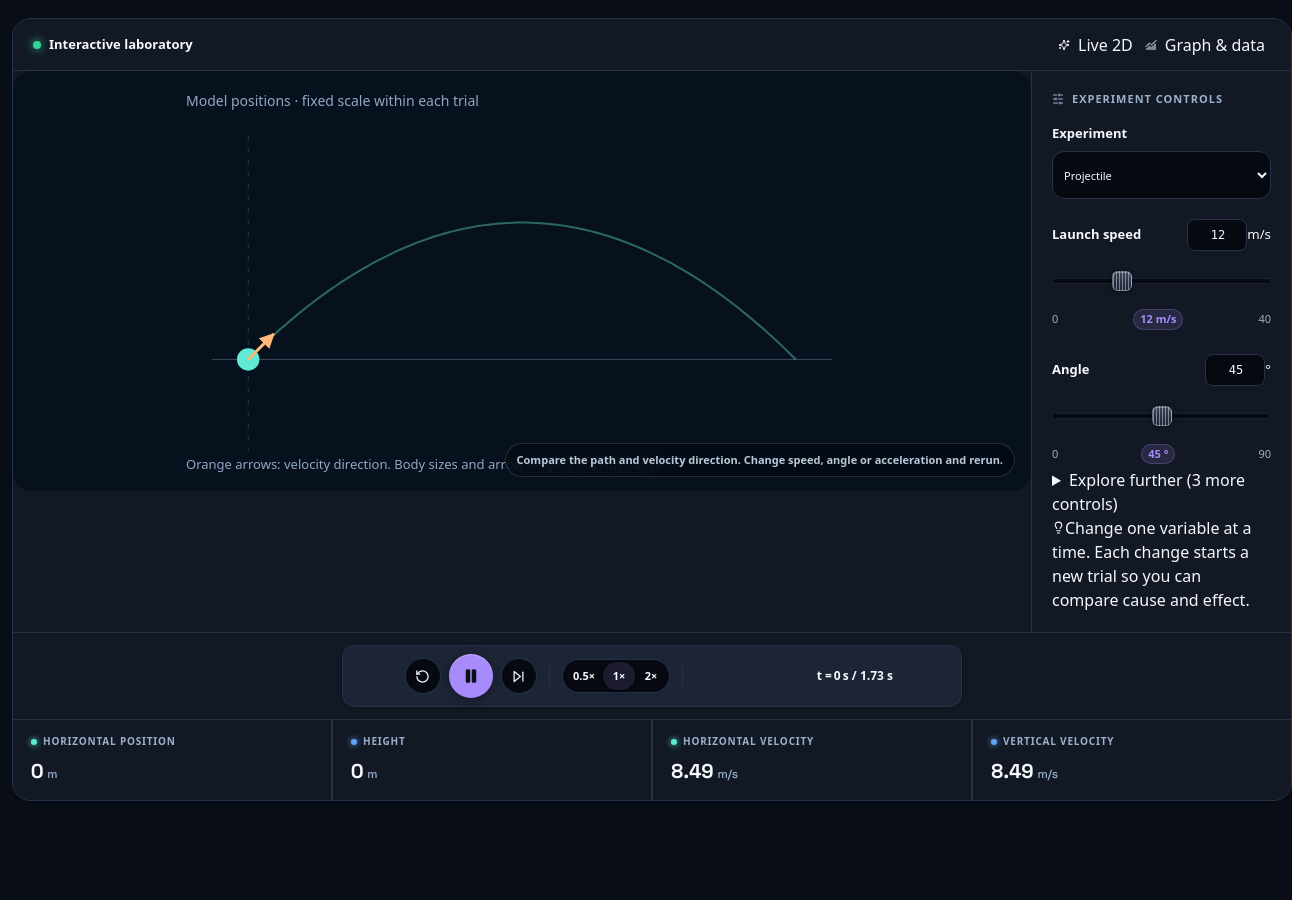
Test: Precision Lab & Floating Playback HUD › renders graph view and reduced visual mode with scrollable wrapper containers
The width and height of the screenshot is (1292, 900).
Click the button "Graph & data" at x=1205, y=44, box [1139,32,1271,58]
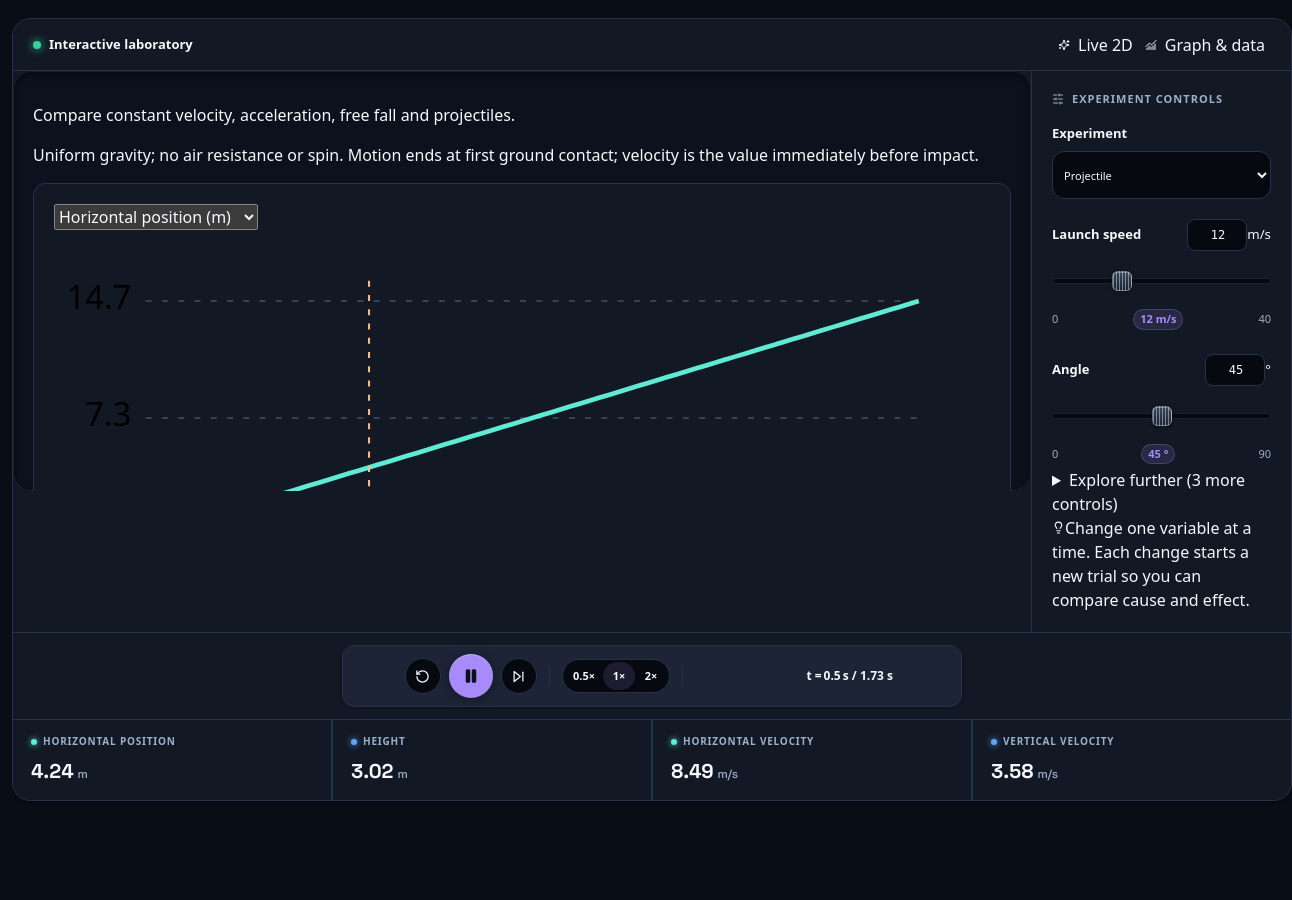
Now the element with class "graph-viewport-wrapper" is shown, box [13,71,1031,491]
